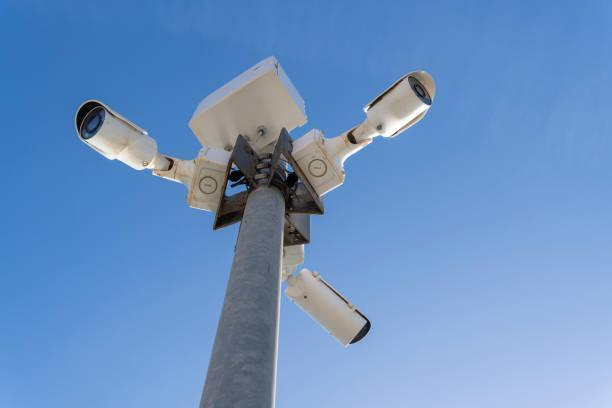CCTV: (288, 37, 457, 193), (64, 88, 209, 214), (277, 251, 390, 356)
